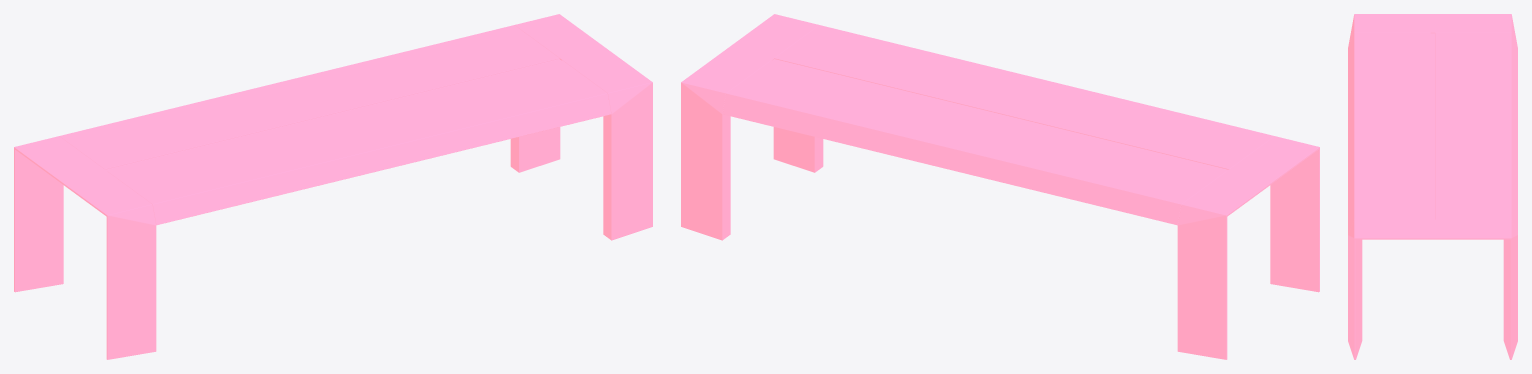
The model's file is desk.fbx.
The picture shows the model from 3 angles, left to right: view 1: azimuth 30°, elevation 25°; view 2: azimuth 150°, elevation 25°; view 3: azimuth 270°, elevation 25°; orthographic projection. The views are drawn at different scales.
Visible parts, largest first — view 1: Table Ceccotti Klas N061119; view 2: Table Ceccotti Klas N061119; view 3: Table Ceccotti Klas N061119.
Boxes of the visible parts, x1,y1,x2,y2 form: Table Ceccotti Klas N061119: (14,14,652,359); Table Ceccotti Klas N061119: (681,14,1319,359); Table Ceccotti Klas N061119: (1348,14,1517,359).
Size of the model in its own units: 58.53 by 14.83 by 18.74.
